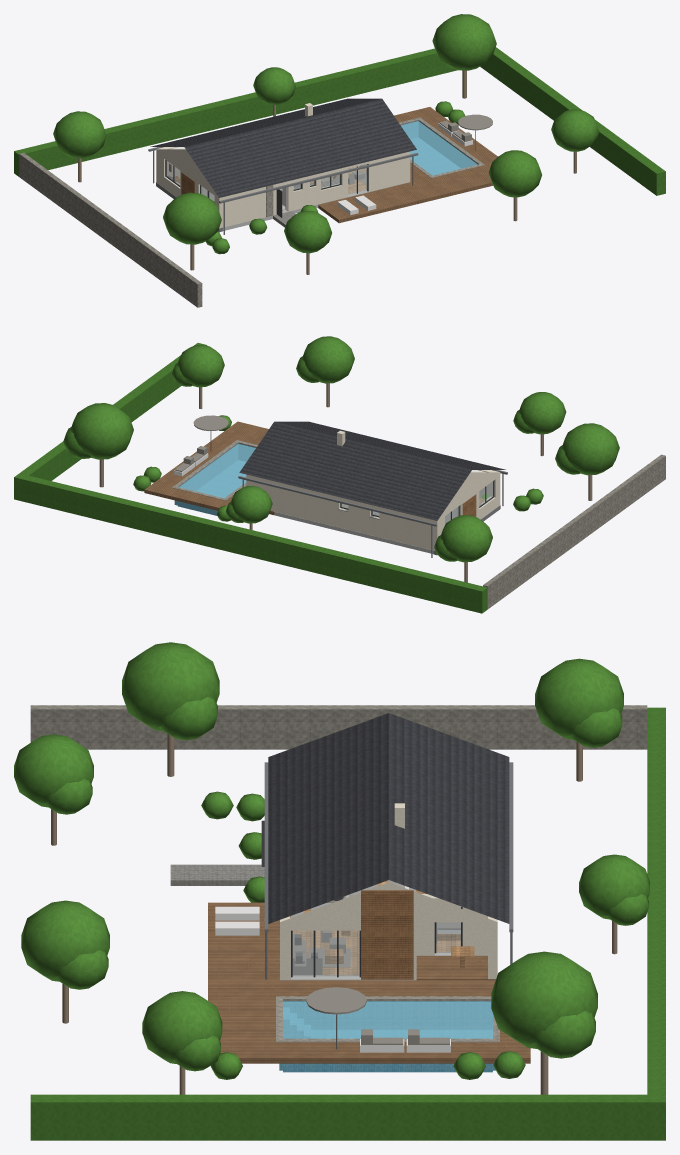
The model's file is house.glb.
3 views of the same model, one above another, from view 1: azimuth 30°, elevation 25°; view 2: azimuth 150°, elevation 25°; view 3: azimuth 270°, elevation 25° (orthographic). The views are drawn at different scales.
Parts seen in each view (by area): view 1: zahrada_ziva_plot, zahrada_listie_nc, strecha, zahrada_oplotenie, terasa_juh, 1NP_w3, voda_0, bazen_mozaika, detail_alu_antracit_nc, 1NP_w2, zahrada_kmen, stit_W (+4 smaller); view 2: zahrada_ziva_plot, zahrada_listie_nc, strecha, zahrada_oplotenie, 1NP_w1, terasa_juh, bazen_mozaika, voda_0, detail_alu_antracit_nc, 1NP_w2, zakladova_doska, stit_W (+3 smaller); view 3: zahrada_listie_nc, strecha, zahrada_ziva_plot, zahrada_oplotenie, terasa_juh, bazen_mozaika, voda_0, nabytok_obklad_drevo, 1NP_w4_sklo_dvere, stit_E, exter_nabytok_biela, detail_alu_antracit_nc (+11 smaller).
Part boxes in pixels (x1=…): zahrada_ziva_plot: x1=14, y1=47, x2=665, y2=195; zahrada_listie_nc: x1=53, y1=14, x2=599, y2=254; strecha: x1=150, y1=98, x2=416, y2=197; zahrada_oplotenie: x1=19, y1=153, x2=202, y2=307; terasa_juh: x1=318, y1=107, x2=497, y2=223; 1NP_w3: x1=216, y1=151, x2=410, y2=228; voda_0: x1=401, y1=121, x2=477, y2=175; bazen_mozaika: x1=401, y1=121, x2=477, y2=175; detail_alu_antracit_nc: x1=148, y1=147, x2=418, y2=234; 1NP_w2: x1=159, y1=151, x2=216, y2=204; zahrada_kmen: x1=78, y1=70, x2=576, y2=274; stit_W: x1=157, y1=149, x2=214, y2=191; zahrada_ziva_plot: x1=14, y1=343, x2=487, y2=613; zahrada_listie_nc: x1=63, y1=336, x2=619, y2=562; strecha: x1=239, y1=421, x2=505, y2=520; zahrada_oplotenie: x1=483, y1=454, x2=665, y2=609; 1NP_w1: x1=246, y1=474, x2=439, y2=550; terasa_juh: x1=144, y1=421, x2=268, y2=510; bazen_mozaika: x1=174, y1=443, x2=255, y2=515; voda_0: x1=179, y1=444, x2=255, y2=498; detail_alu_antracit_nc: x1=238, y1=470, x2=507, y2=557; 1NP_w2: x1=440, y1=474, x2=497, y2=535; zakladova_doska: x1=274, y1=511, x2=433, y2=553; stit_W: x1=441, y1=472, x2=499, y2=514; zahrada_listie_nc: x1=14, y1=642, x2=649, y2=1079; strecha: x1=268, y1=713, x2=509, y2=923; zahrada_ziva_plot: x1=30, y1=707, x2=665, y2=1140; zahrada_oplotenie: x1=30, y1=705, x2=647, y2=749; terasa_juh: x1=208, y1=902, x2=530, y2=1063; bazen_mozaika: x1=279, y1=1001, x2=495, y2=1072; voda_0: x1=283, y1=1001, x2=492, y2=1038; nabytok_obklad_drevo: x1=361, y1=890, x2=413, y2=979; 1NP_w4_sklo_dvere: x1=293, y1=931, x2=359, y2=976; stit_E: x1=281, y1=882, x2=496, y2=922; exter_nabytok_biela: x1=215, y1=906, x2=450, y2=1052; detail_alu_antracit_nc: x1=264, y1=762, x2=513, y2=979.
Size of what is drawn, in the model's own units: 40 by 7.84 by 27.91.
Materials: 33 (19 with a texture image).
